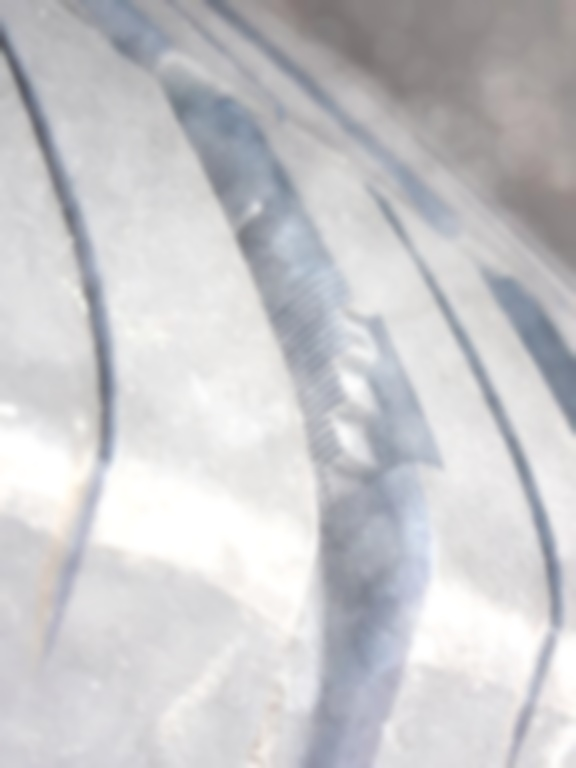temoin:90: (256, 257, 461, 530)
